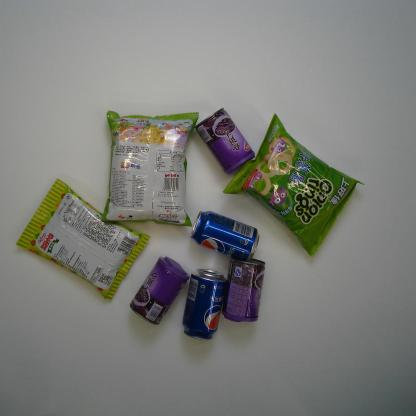Canned Food: (129, 256, 191, 327), (194, 107, 255, 176), (221, 256, 266, 323)
Drink: (189, 210, 260, 262), (182, 268, 228, 341)
Puffed Food: (222, 113, 366, 257), (15, 178, 151, 300), (101, 109, 199, 228)
